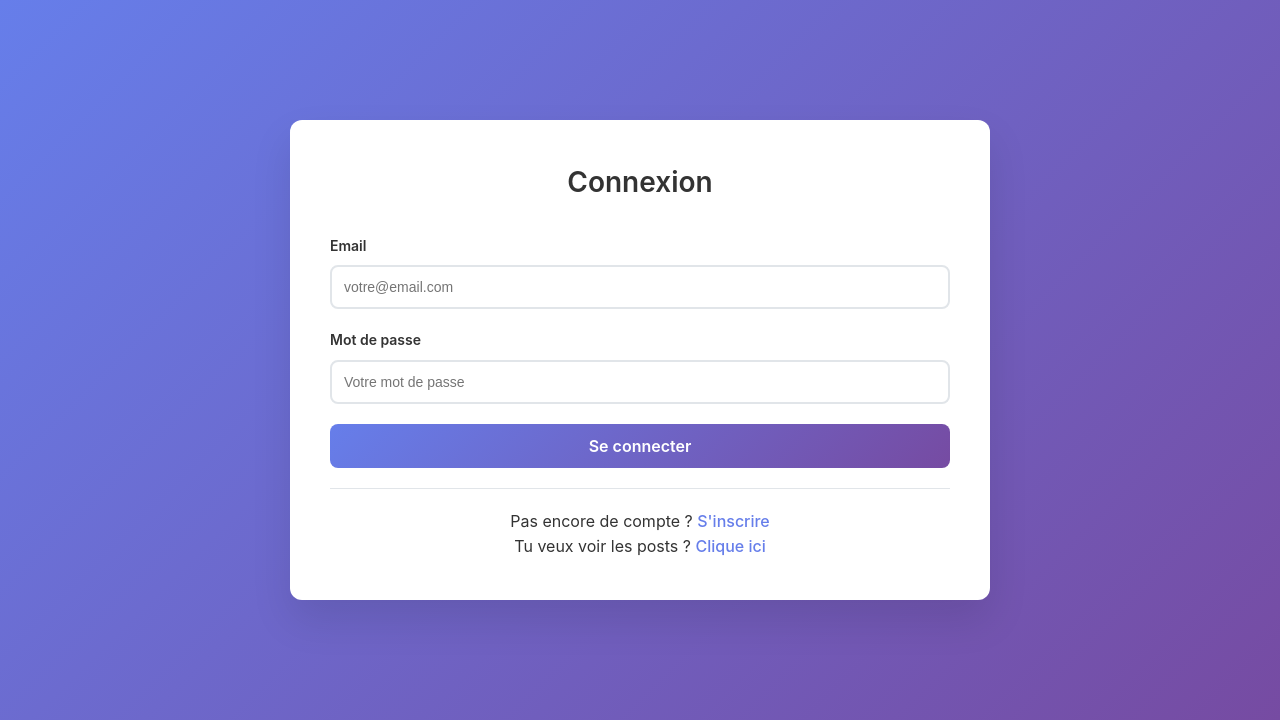
Test case: Page de Connexion › affiche une erreur avec des identifiants incorrects
Type "wrong@example.com" into the field with test id "login-email".
click(640, 287); type("wrong@example.com")  # box [330,265,950,309]
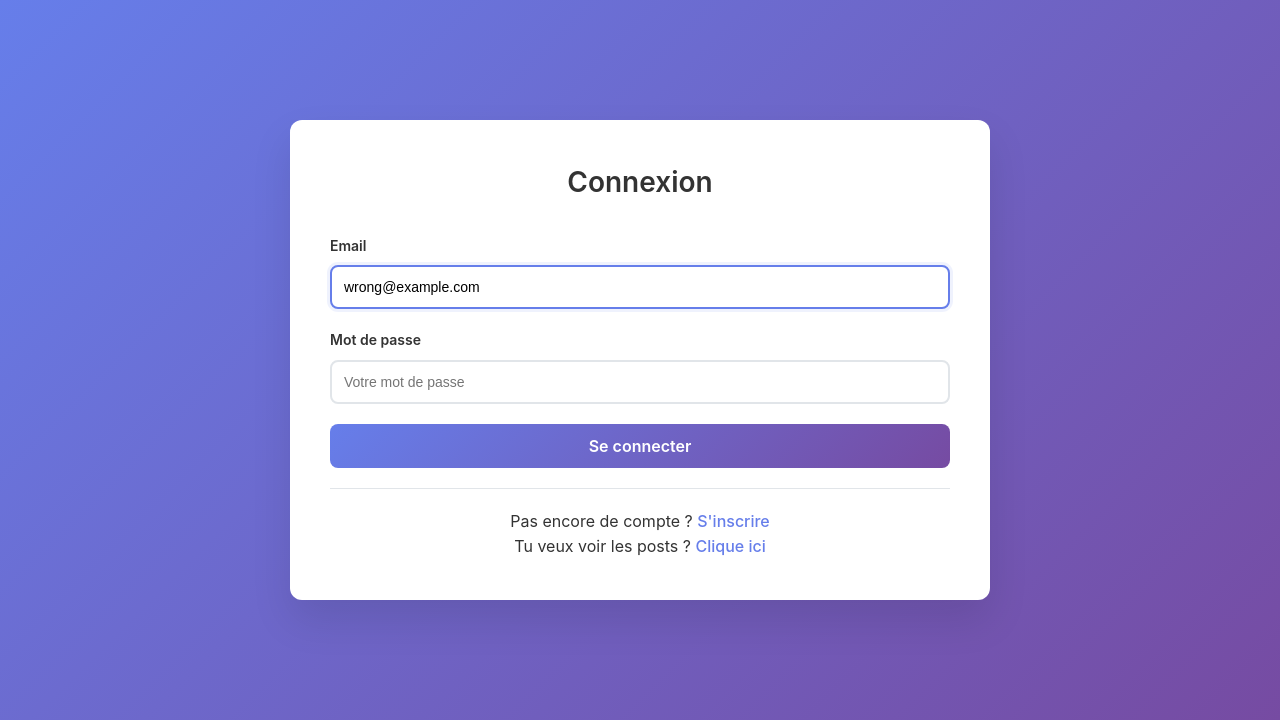
Type "wrongpassword" into the password field with test id "login-password".
click(640, 382); type("wrongpassword")  # box [330,360,950,404]
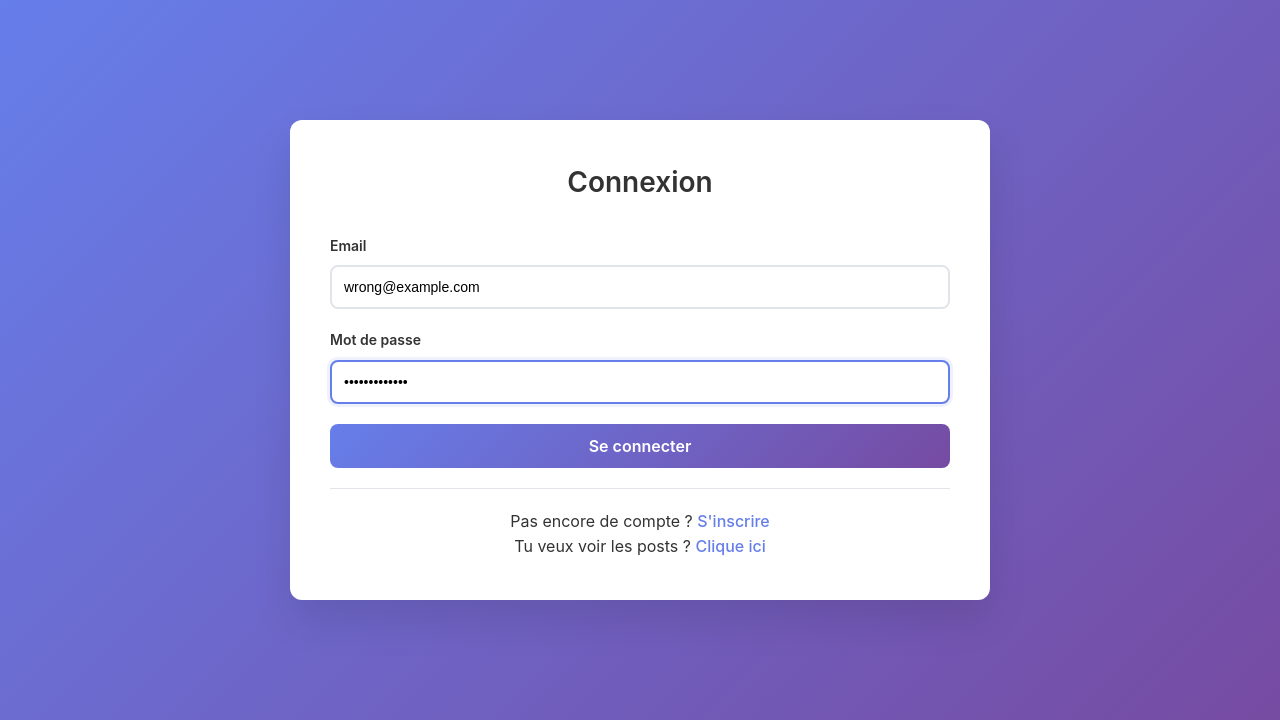
Click the button with test id "login-submit-button".
click(640, 446)  # box [330,424,950,468]
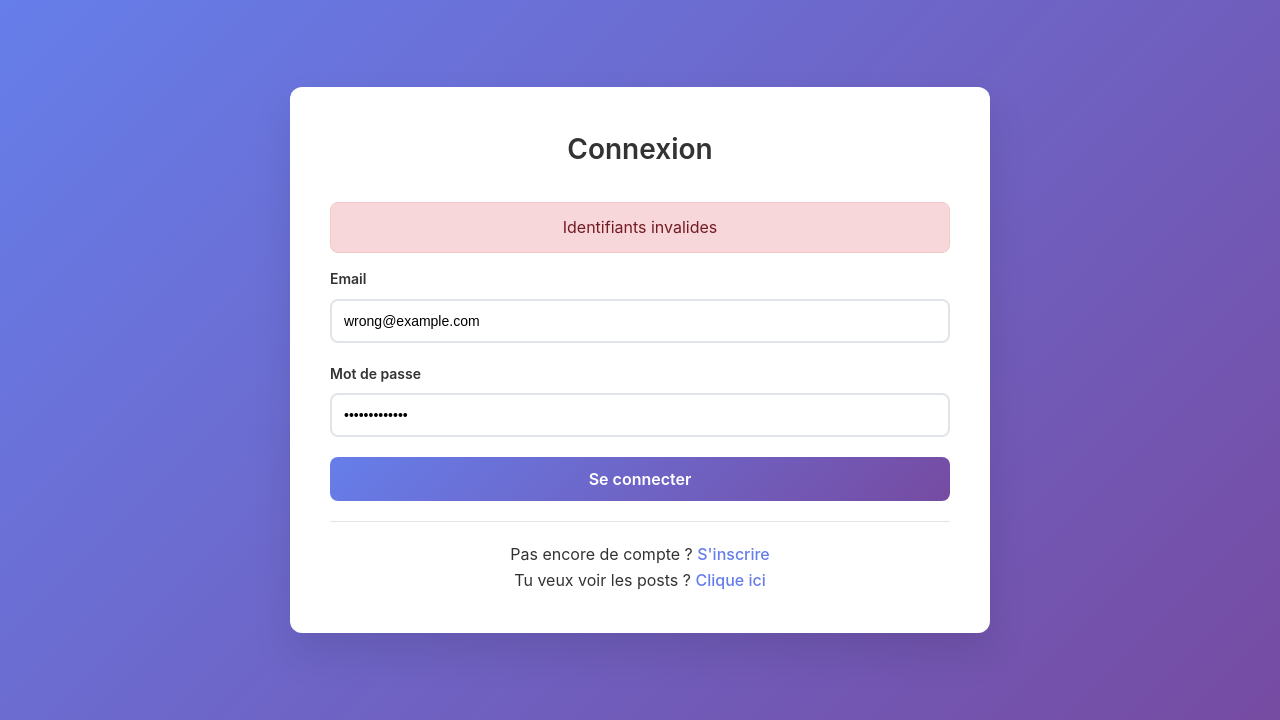
Now the text with class "error-message" reads "Identifiants invalides", box [330,202,950,254]
